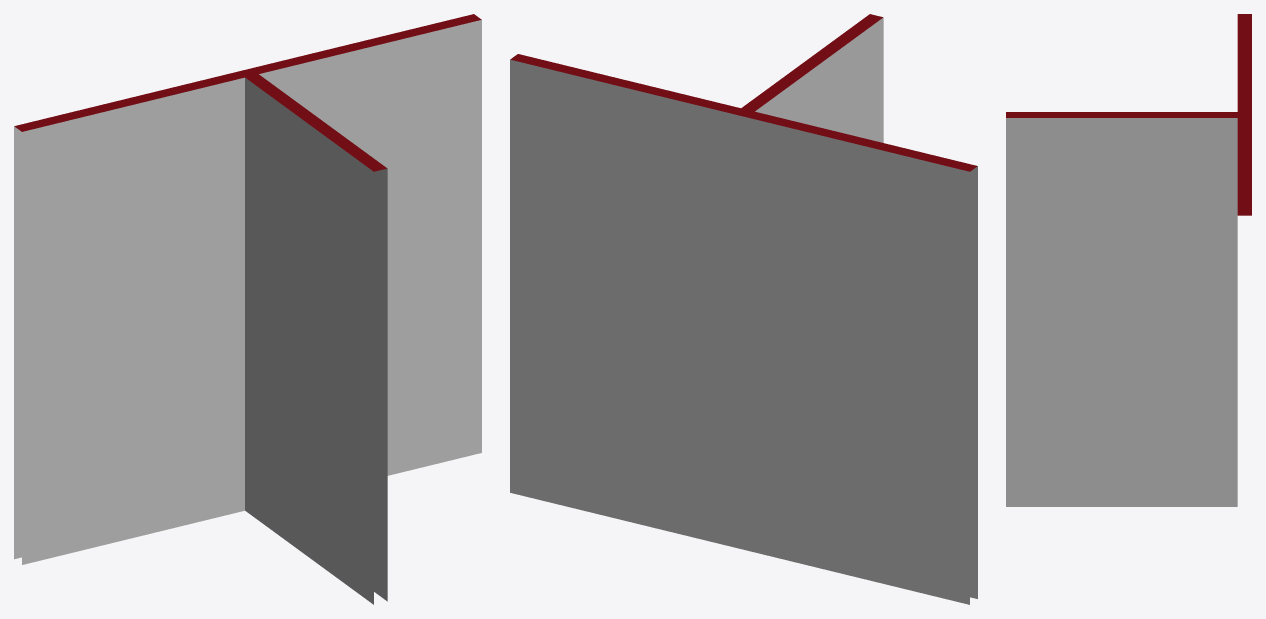
Rendered from Wall02_divider_T.fbx.
3 renders of one model, left to right at view 1: azimuth 30°, elevation 25°; view 2: azimuth 150°, elevation 25°; view 3: azimuth 270°, elevation 25°, orthographic. The views are drawn at different scales.
Parts seen in each view (by area): view 1: Cube.025; view 2: Cube.025; view 3: Cube.025.
Part boxes in pixels (x1,y1,x2,y2): Cube.025: [14, 14, 481, 604]; Cube.025: [510, 14, 977, 604]; Cube.025: [1006, 14, 1251, 506].
Size of the model in its own units: 4 by 3.6 by 2.06.
